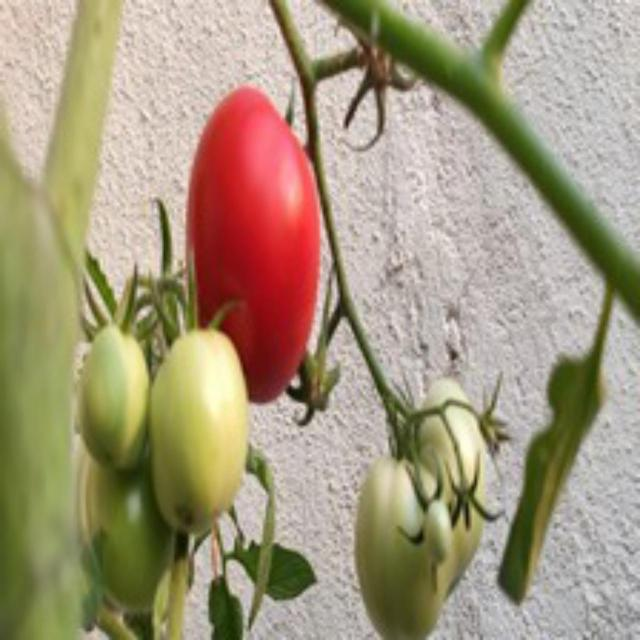tomato: (184, 69, 326, 401)
